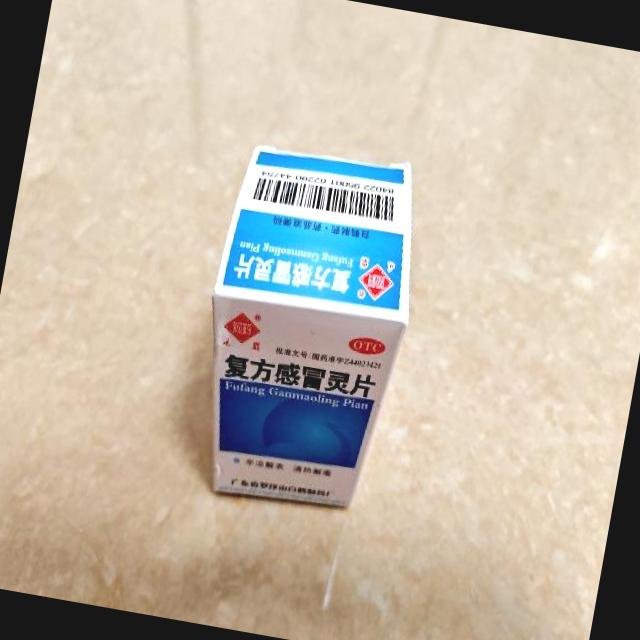box: (179, 134, 434, 522)
